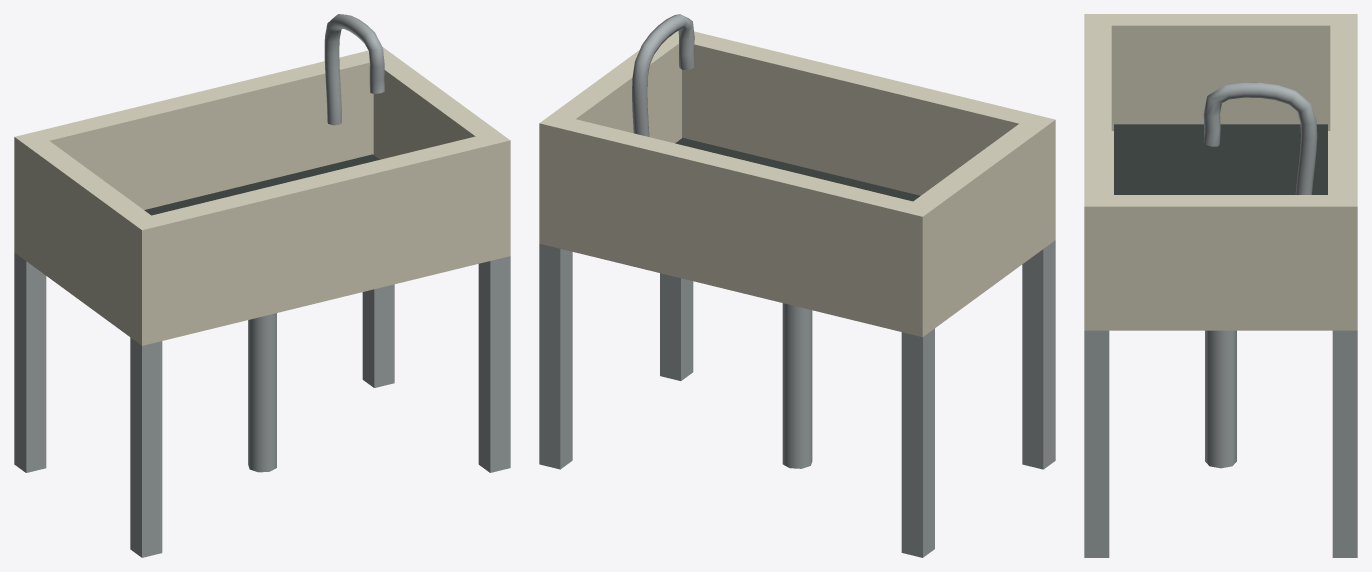
File: rural-scavenging-settlements-scullery-sink-6cca42ec__26568.glb
3 views of the same model, side by side, from view 1: azimuth 30°, elevation 25°; view 2: azimuth 150°, elevation 25°; view 3: azimuth 270°, elevation 25° (orthographic). The views are drawn at different scales.
Parts seen in each view (by area): view 1: scullery-sink; view 2: scullery-sink; view 3: scullery-sink.
Boxes of the visible parts, <box> form: scullery-sink: <box>14,14,510,557</box>; scullery-sink: <box>539,14,1055,557</box>; scullery-sink: <box>1084,14,1357,557</box>.
Size of the model in its own units: 1 by 1.06 by 0.6001.
